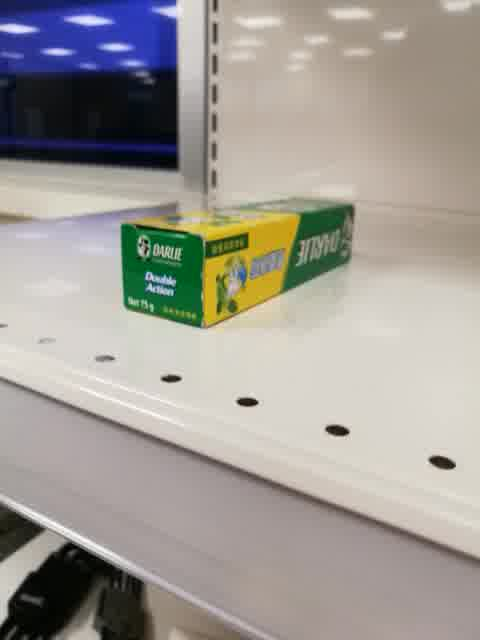toothpaste: (120, 197, 356, 331)
